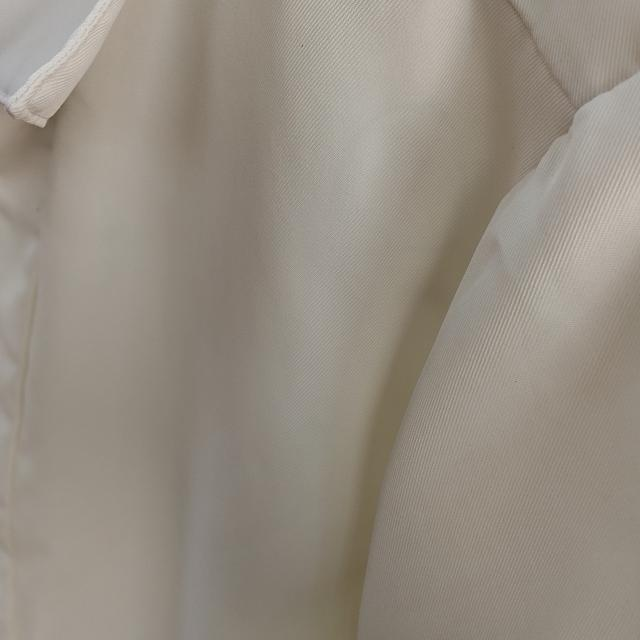education_male_uniform: (4, 1, 640, 432)
